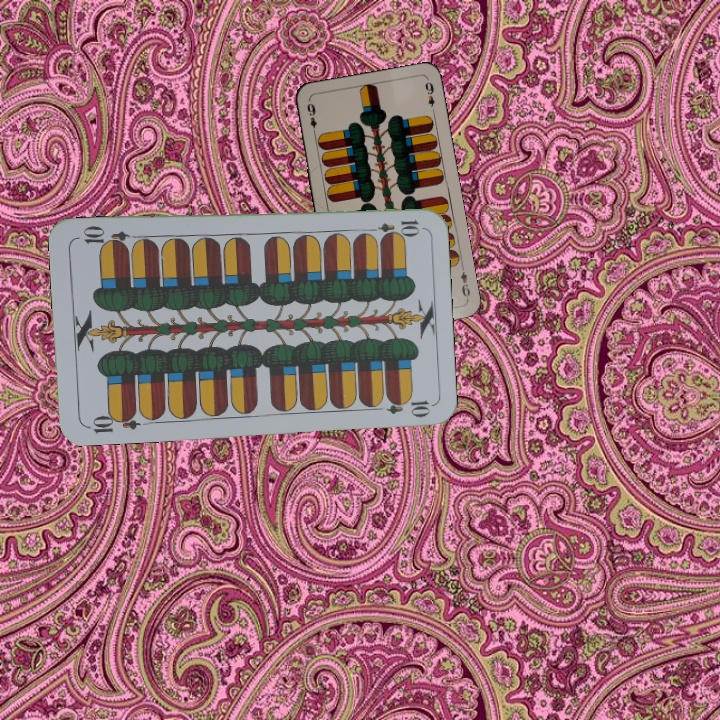E10: (83, 408, 142, 436), (363, 216, 422, 236)
E9: (457, 262, 473, 302), (303, 99, 319, 138)
